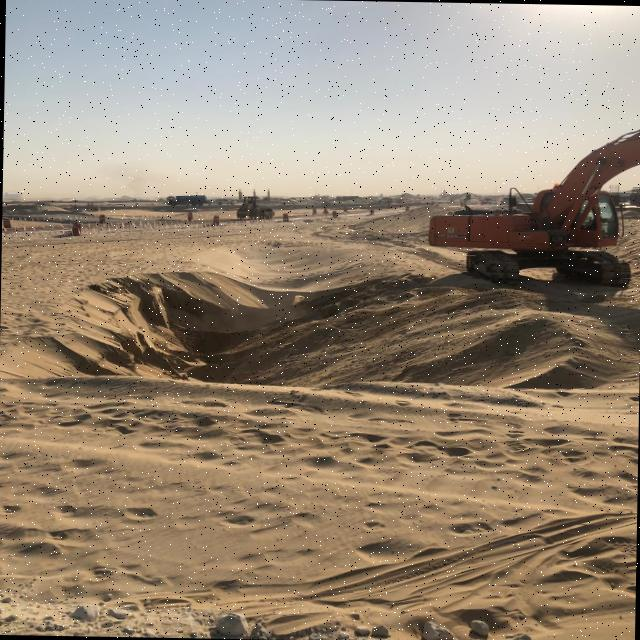Excavator: (422, 123, 639, 296)
